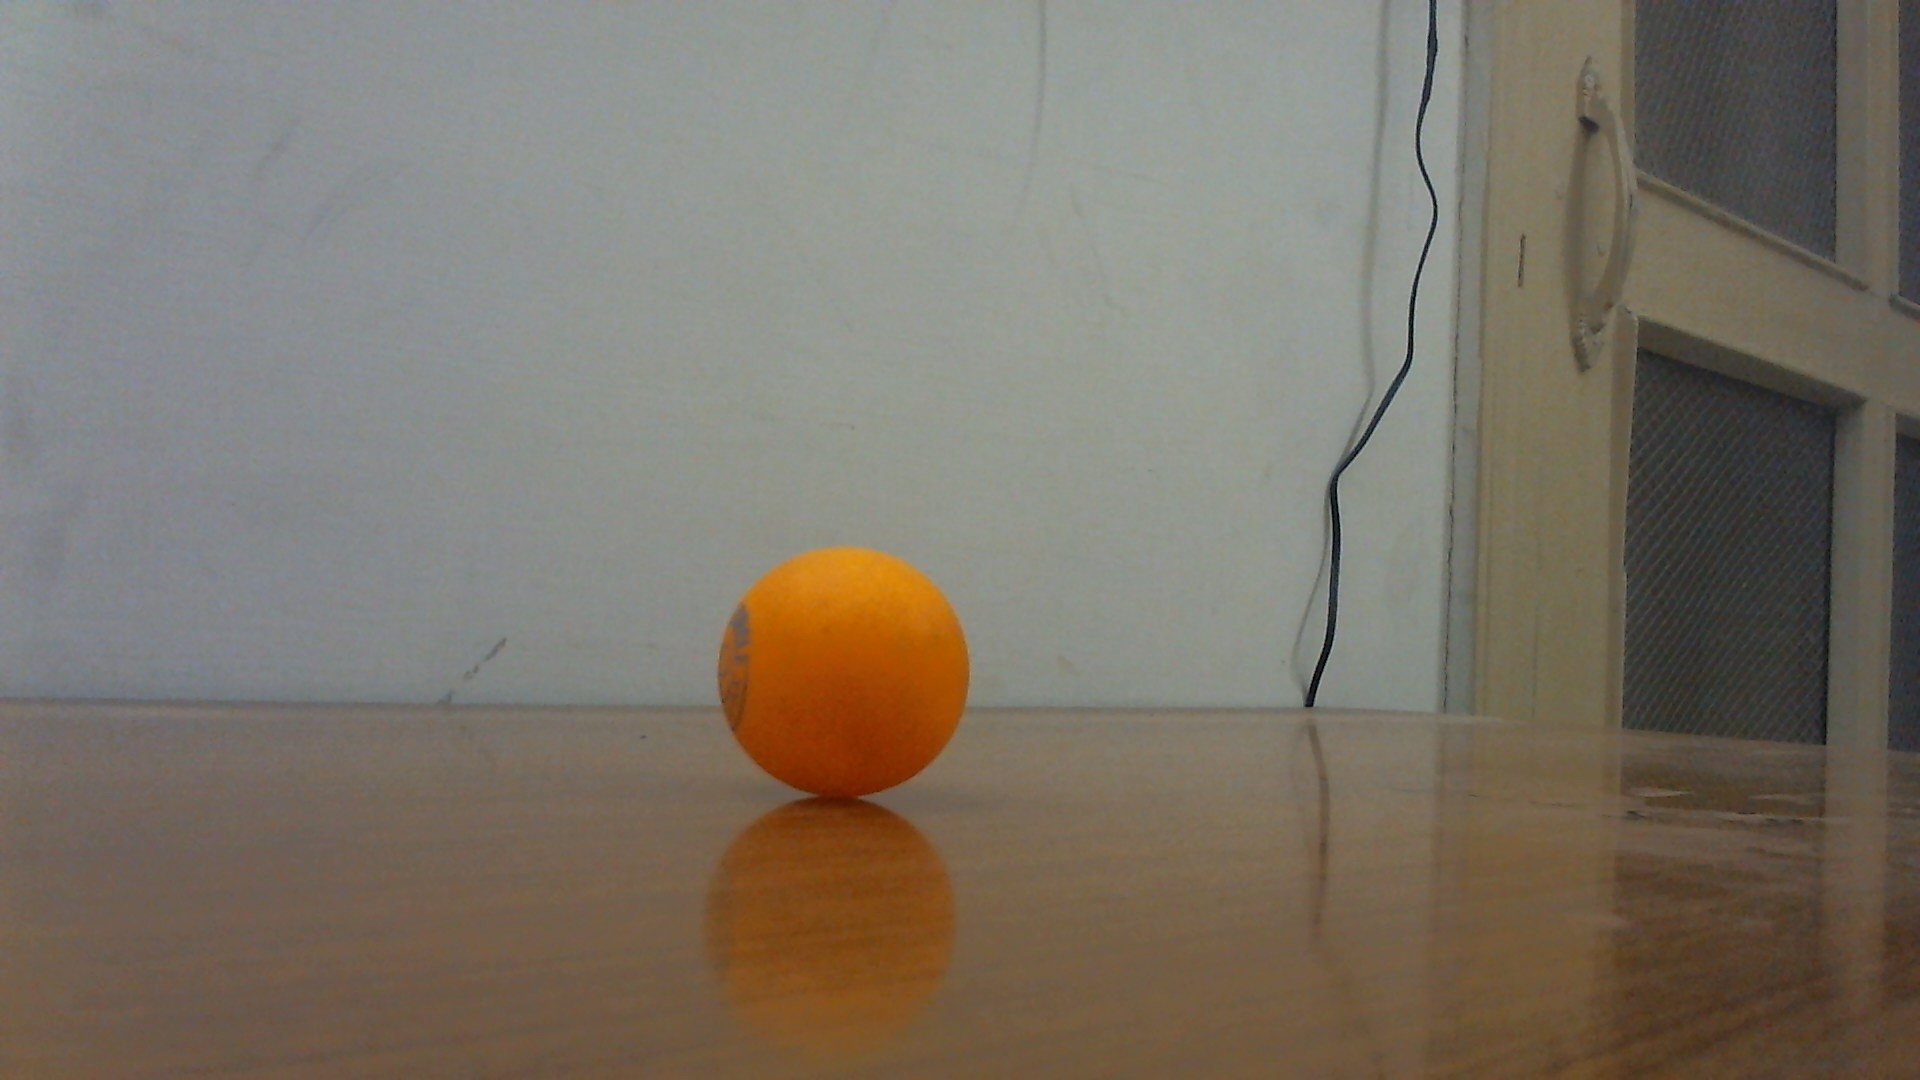ball: (716, 545, 972, 804)
